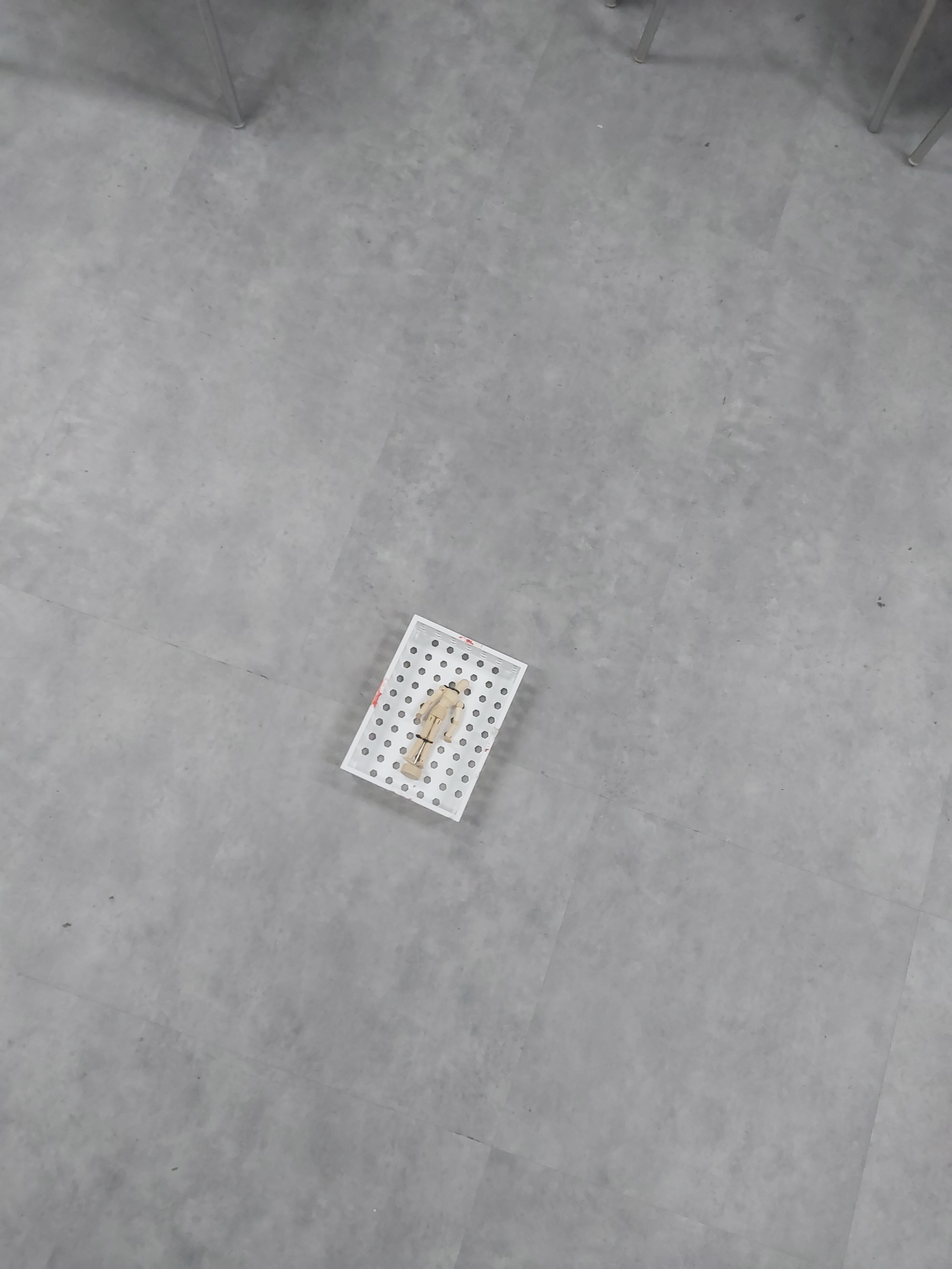basket: (337, 612, 532, 826)
mannequin: (399, 676, 473, 783)
